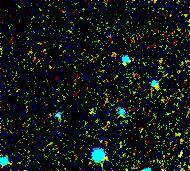star: (142, 73, 172, 103)
